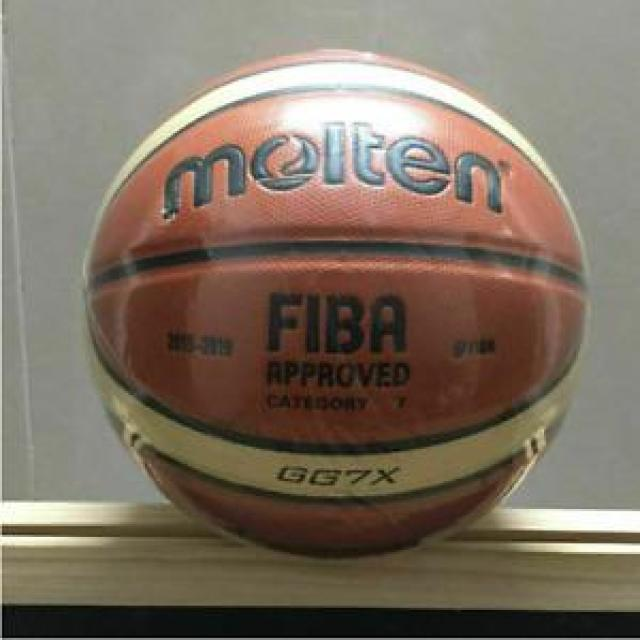ball: (80, 40, 599, 562)
